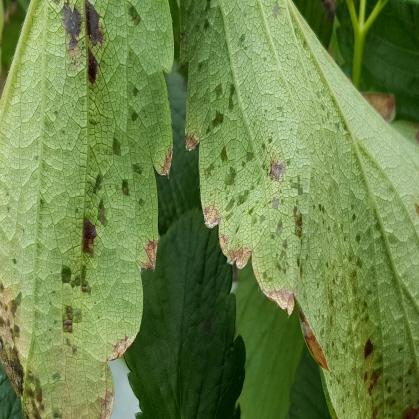Angular Leafspot: (177, 0, 418, 418), (0, 0, 175, 418)
